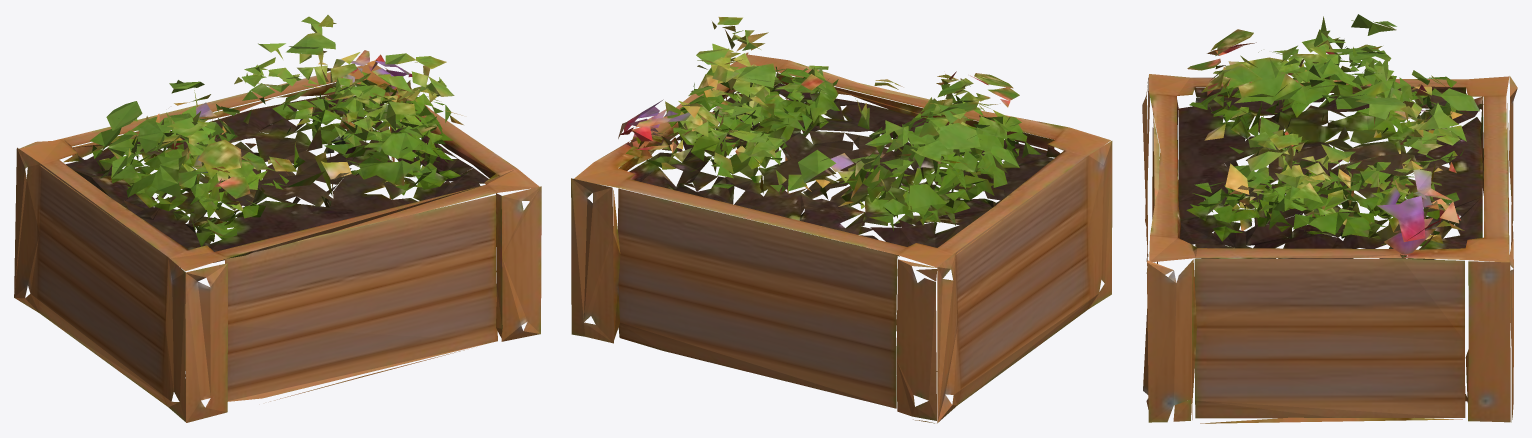
File: flowerbox.glb
3 renders of one model, left to right at view 1: azimuth 30°, elevation 25°; view 2: azimuth 150°, elevation 25°; view 3: azimuth 270°, elevation 25°, orthographic. The views are drawn at different scales.
Visible parts, largest first — view 1: textured_mesh.obj; view 2: textured_mesh.obj; view 3: textured_mesh.obj.
Part boxes in pixels (x1=…): textured_mesh.obj: x1=14, y1=15, x2=541, y2=422; textured_mesh.obj: x1=571, y1=17, x2=1112, y2=423; textured_mesh.obj: x1=1142, y1=14, x2=1517, y2=423.
Bounding box in the file's own units: 1.96 × 1.32 × 1.64.
1 material, 1 textured.
